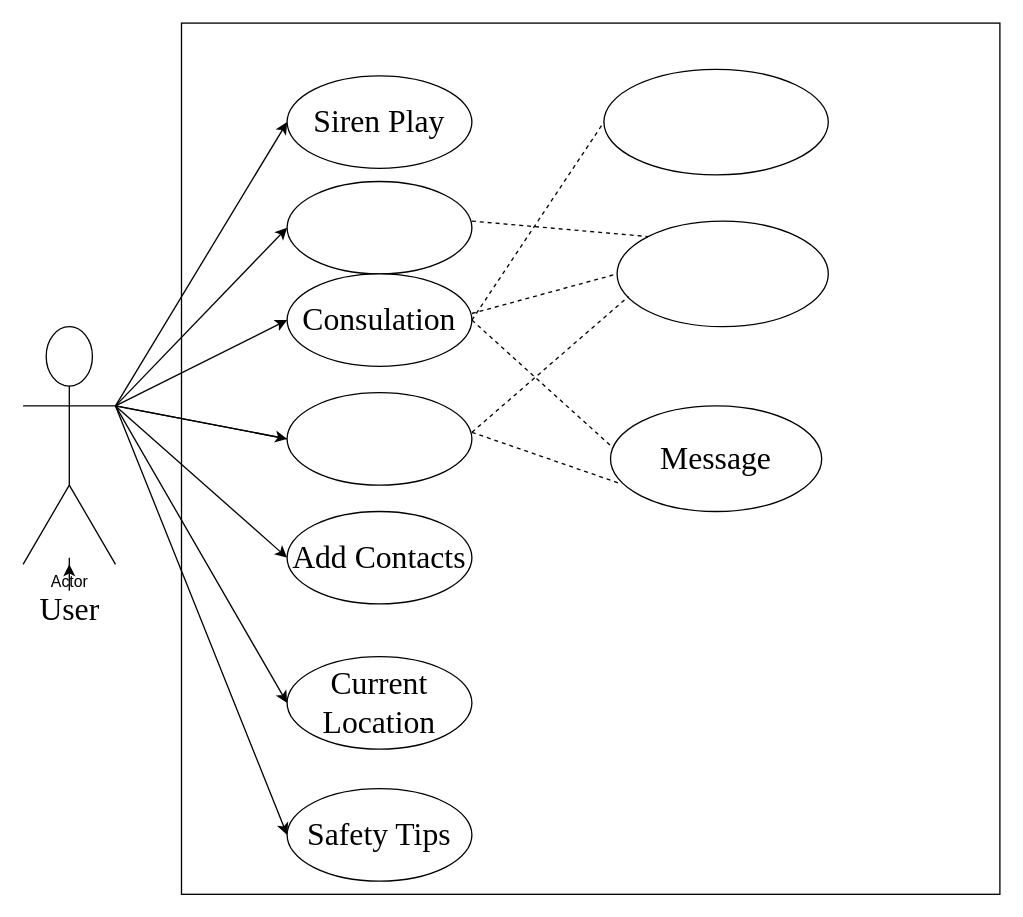
This 1023x917 diagram has some shape labels left out. Here are the shapes that lost their labels. From the top down, the centre of each, then its label:
At point 715,121: "Email".
At point 379,227: "Helpline".
At point 722,273: "Call".
At point 379,438: "View Contacts".
